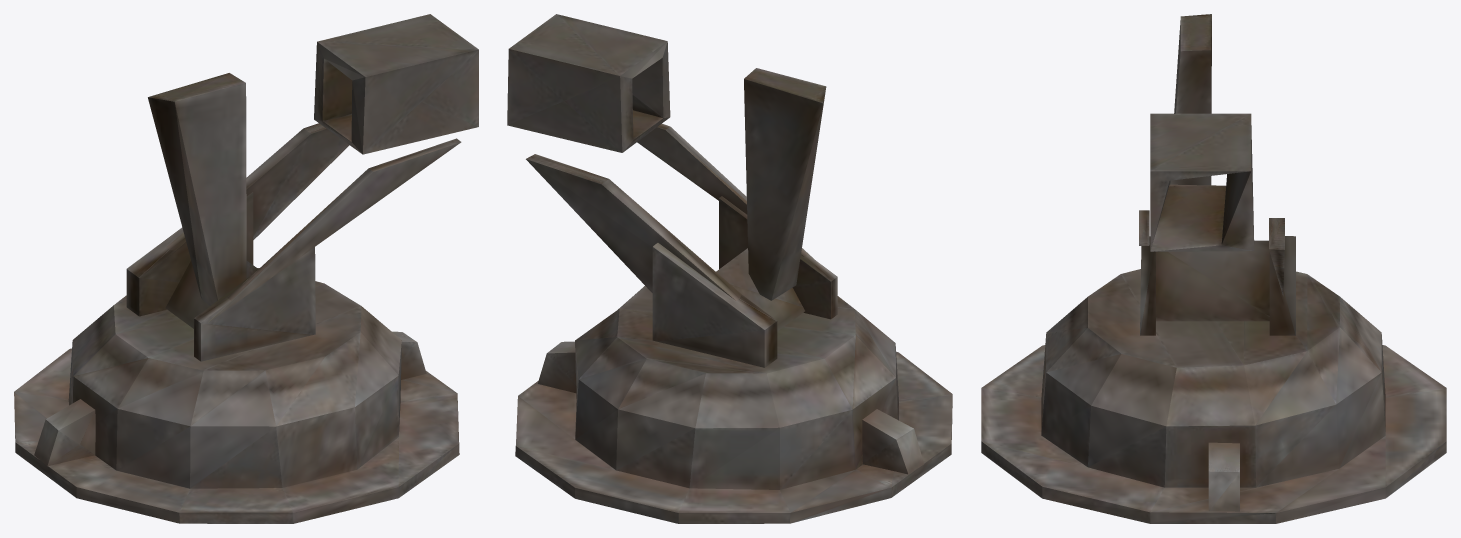
The model's file is car_s_gun_mount.glb.
The picture shows the model from 3 angles, left to right: view 1: azimuth 30°, elevation 25°; view 2: azimuth 150°, elevation 25°; view 3: azimuth 270°, elevation 25°; orthographic projection. The views are drawn at different scales.
Parts seen in each view (by area): view 1: geometry_0; view 2: geometry_0; view 3: geometry_0.
Part boxes in pixels (left/top/right/bottom): geometry_0: left=14, top=14, right=478, bottom=523; geometry_0: left=507, top=14, right=952, bottom=523; geometry_0: left=981, top=14, right=1446, bottom=523.
Size of the model in its own units: 0.2949 by 0.2515 by 0.2837.
Materials: 1 (1 with a texture image).
